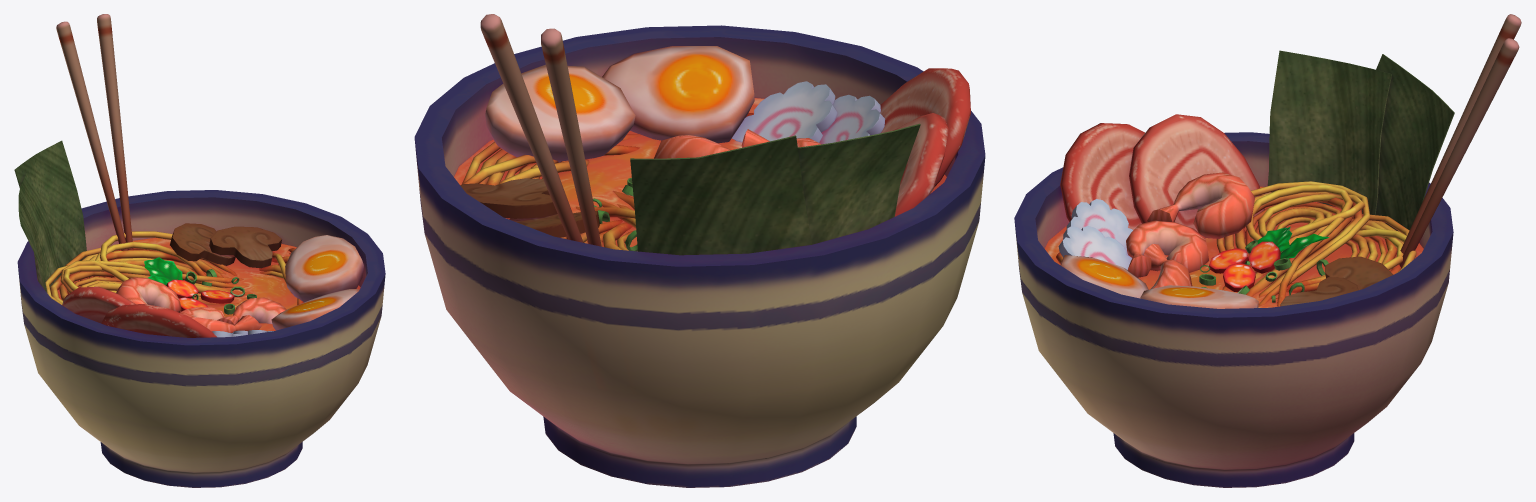
The picture shows the model from 3 angles, left to right: view 1: azimuth 30°, elevation 25°; view 2: azimuth 150°, elevation 25°; view 3: azimuth 270°, elevation 25°; orthographic projection. The views are drawn at different scales.
Parts seen in each view (by area): view 1: Ramen_3D; view 2: Ramen_3D; view 3: Ramen_3D.
Part boxes in pixels (box(x1,y1,x2,y2)): Ramen_3D: box(14, 14, 385, 487); Ramen_3D: box(414, 14, 985, 487); Ramen_3D: box(1014, 14, 1521, 487).
Size of the model in its own units: 0.2282 by 0.2334 by 0.2618.
1 material, 1 textured.
